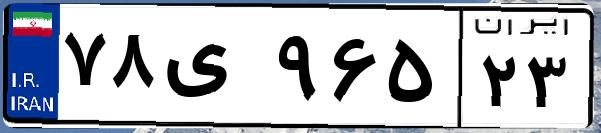2: (475, 38, 525, 113)
3: (525, 38, 570, 115)
5: (385, 28, 445, 110)
6: (330, 28, 385, 110)
7: (57, 26, 110, 100)
8: (110, 28, 158, 98)
9: (270, 28, 330, 110)
ی: (158, 20, 270, 120)
